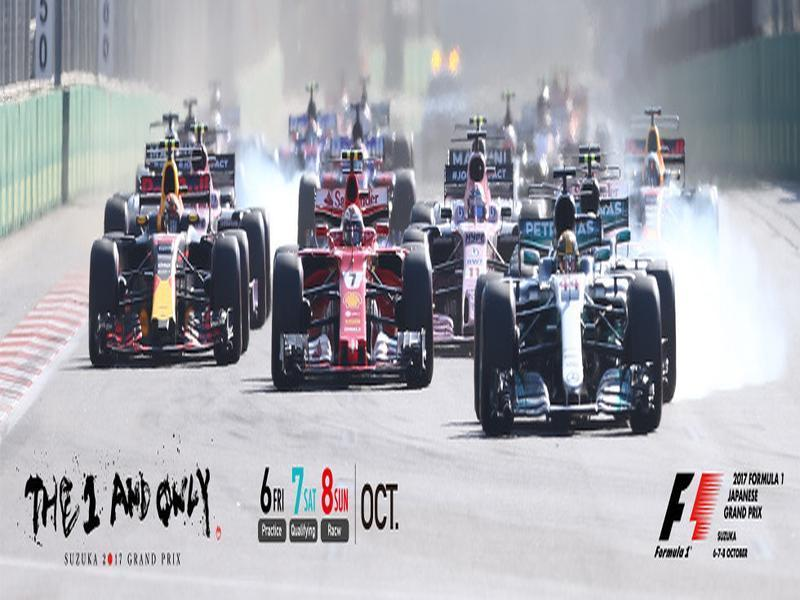f1: (471, 242, 698, 429), (260, 215, 457, 409), (86, 198, 292, 367), (410, 158, 546, 339)
